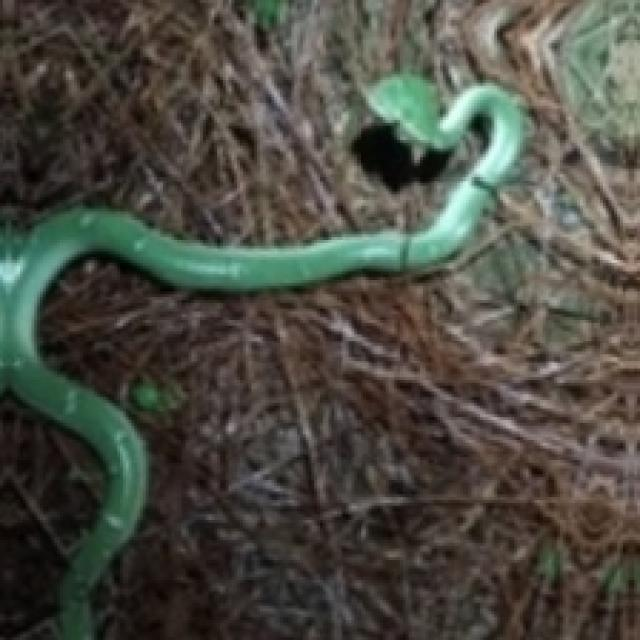north ph temple pitviper: (0, 74, 523, 637)
